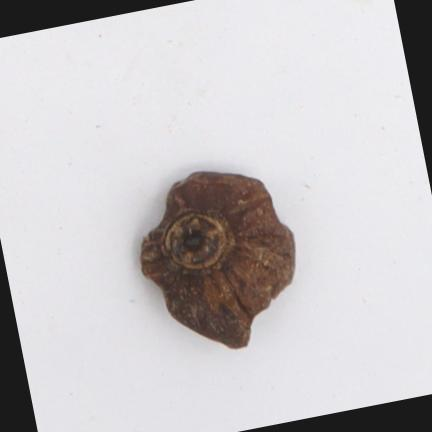full-black: (141, 173, 295, 347)
